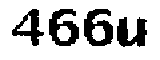4: (9, 7, 46, 51)
6: (78, 7, 116, 52), (45, 8, 80, 52)
u: (114, 14, 149, 52)
